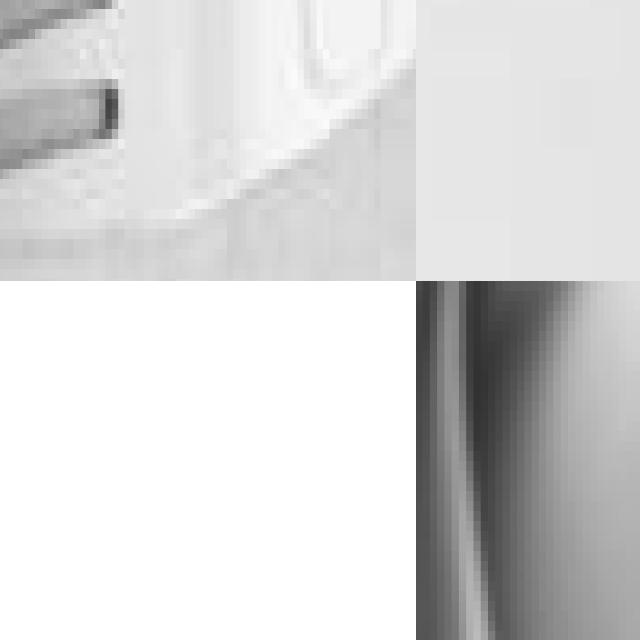forks: (0, 0, 416, 281)
spoons: (416, 281, 640, 640)
